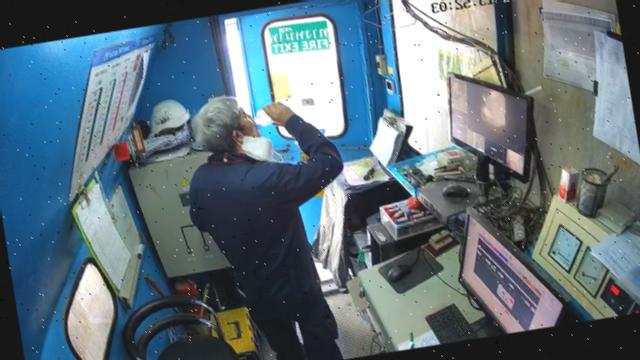Head: (190, 97, 260, 153)
People: (189, 99, 342, 359)
